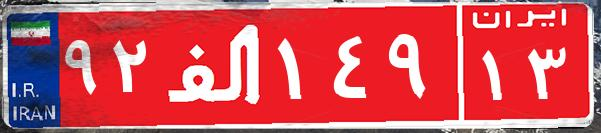1: (273, 28, 330, 110), (475, 38, 525, 113)
2: (110, 28, 158, 105)
3: (525, 38, 570, 115)
4: (330, 28, 385, 110)
9: (385, 28, 445, 110), (57, 26, 110, 107)
الف: (158, 15, 273, 115)
